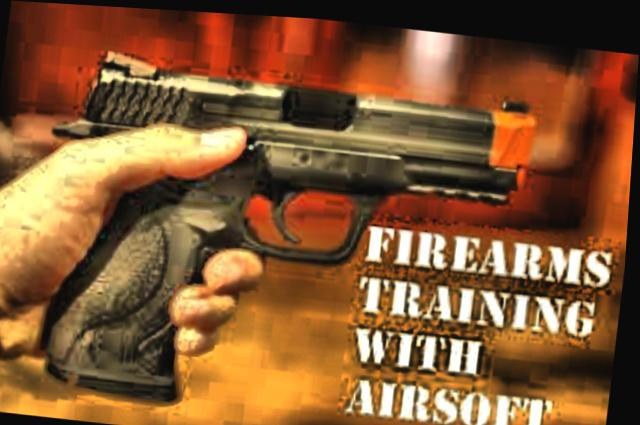pistol: (24, 35, 537, 420)
